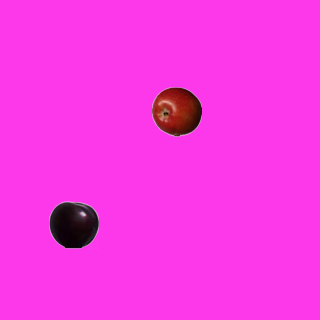Apple Braeburn: (151, 86, 201, 136)
Cherry Wax Black: (48, 199, 98, 249)
